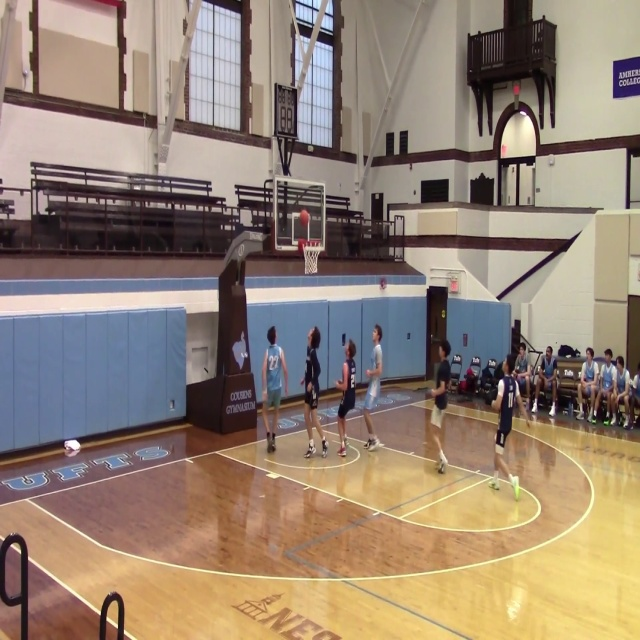Basketball: (64, 439, 81, 457), (299, 209, 310, 226), (491, 399, 500, 412), (336, 381, 346, 391), (426, 389, 434, 398)
